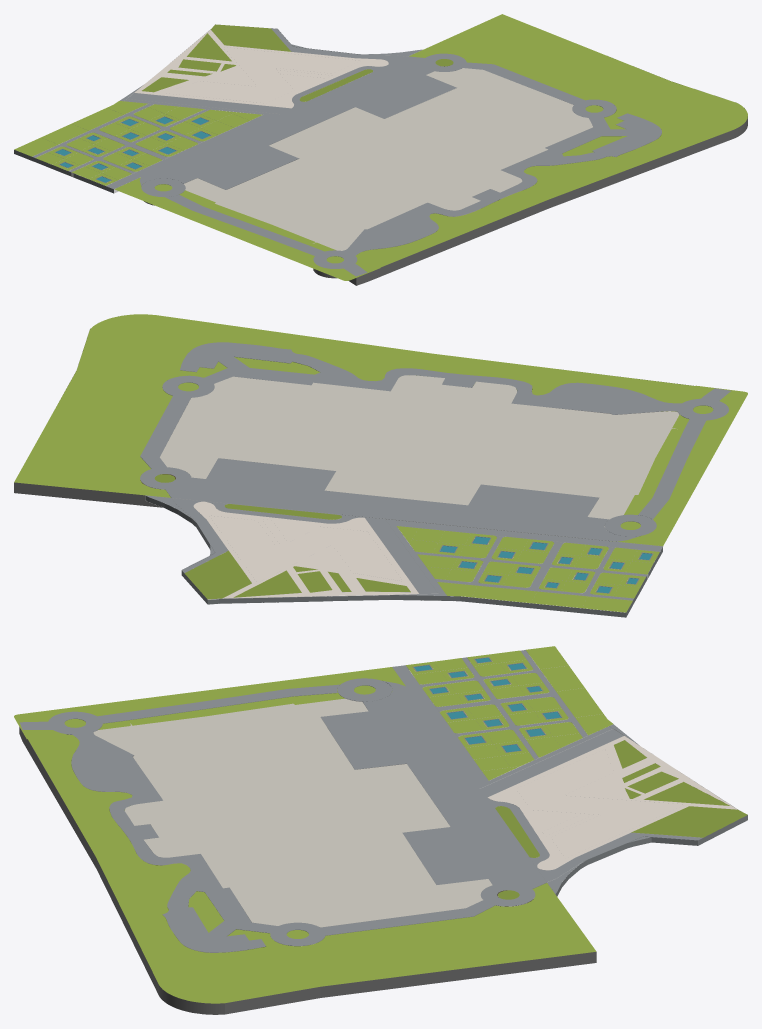
The model's file is casino_land_Import3D_Project_CopyFeatures.glb.
3 views of the same model, one above another, from view 1: azimuth 30°, elevation 25°; view 2: azimuth 150°, elevation 25°; view 3: azimuth 270°, elevation 25° (orthographic). The views are drawn at different scales.
Parts seen in each view (by area): view 1: mesh_material_from_multipatch, mesh_material_from_multipatch_6, mesh_material_from_multipatch_7, mesh_material_from_multipatch_8, mesh_material_from_multipatch_5, mesh_material_from_multipatch_1, mesh_material_from_multipatch_9, mesh_material_from_multipatch_2, mesh_material_from_multipatch_3, mesh_material_from_multipatch_4; view 2: mesh_material_from_multipatch, mesh_material_from_multipatch_6, mesh_material_from_multipatch_7, mesh_material_from_multipatch_8, mesh_material_from_multipatch_1, mesh_material_from_multipatch_4, mesh_material_from_multipatch_5, mesh_material_from_multipatch_3, mesh_material_from_multipatch_9, mesh_material_from_multipatch_2; view 3: mesh_material_from_multipatch, mesh_material_from_multipatch_6, mesh_material_from_multipatch_7, mesh_material_from_multipatch_8, mesh_material_from_multipatch_5, mesh_material_from_multipatch_1, mesh_material_from_multipatch_9, mesh_material_from_multipatch_4, mesh_material_from_multipatch_3, mesh_material_from_multipatch_2.
Part boxes in pixels (left/top/right/bottom): mesh_material_from_multipatch: left=14, top=14, right=747, bottom=280; mesh_material_from_multipatch_6: left=184, top=68, right=592, bottom=250; mesh_material_from_multipatch_7: left=32, top=28, right=661, bottom=276; mesh_material_from_multipatch_8: left=134, top=29, right=388, bottom=108; mesh_material_from_multipatch_5: left=144, top=108, right=747, bottom=285; mesh_material_from_multipatch_1: left=142, top=24, right=453, bottom=101; mesh_material_from_multipatch_9: left=56, top=117, right=210, bottom=182; mesh_material_from_multipatch_2: left=54, top=116, right=211, bottom=183; mesh_material_from_multipatch_3: left=34, top=27, right=419, bottom=193; mesh_material_from_multipatch_4: left=14, top=24, right=357, bottom=193; mesh_material_from_multipatch: left=14, top=314, right=747, bottom=612; mesh_material_from_multipatch_6: left=160, top=375, right=679, bottom=527; mesh_material_from_multipatch_7: left=140, top=342, right=731, bottom=600; mesh_material_from_multipatch_8: left=193, top=501, right=418, bottom=598; mesh_material_from_multipatch_1: left=154, top=474, right=410, bottom=599; mesh_material_from_multipatch_4: left=145, top=495, right=662, bottom=617; mesh_material_from_multipatch_5: left=14, top=316, right=693, bottom=541; mesh_material_from_multipatch_3: left=145, top=488, right=661, bottom=612; mesh_material_from_multipatch_9: left=440, top=536, right=652, bottom=593; mesh_material_from_multipatch_2: left=439, top=536, right=653, bottom=593; mesh_material_from_multipatch: left=14, top=646, right=612, bottom=1003; mesh_material_from_multipatch_6: left=93, top=698, right=492, bottom=927; mesh_material_from_multipatch_7: left=19, top=650, right=737, bottom=952; mesh_material_from_multipatch_8: left=488, top=736, right=737, bottom=870; mesh_material_from_multipatch_5: left=19, top=727, right=596, bottom=1014; mesh_material_from_multipatch_1: left=495, top=740, right=747, bottom=899; mesh_material_from_multipatch_9: left=414, top=657, right=560, bottom=752; mesh_material_from_multipatch_4: left=408, top=658, right=747, bottom=896; mesh_material_from_multipatch_3: left=293, top=652, right=735, bottom=946; mesh_material_from_multipatch_2: left=413, top=657, right=562, bottom=752.
Size of the model in its own units: 675 by 10.13 by 586.
